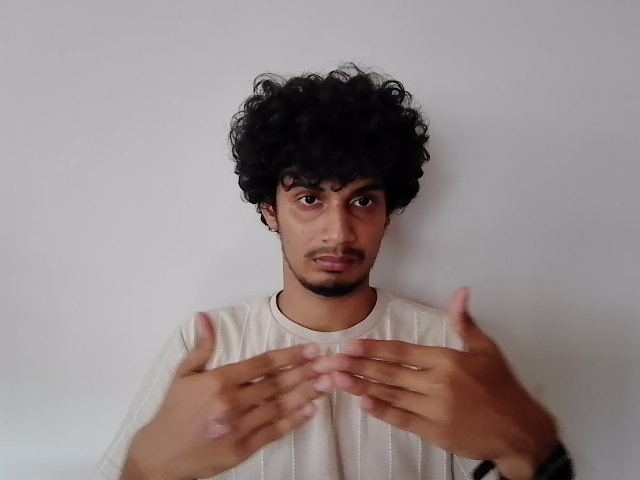family: (129, 285, 522, 474)
